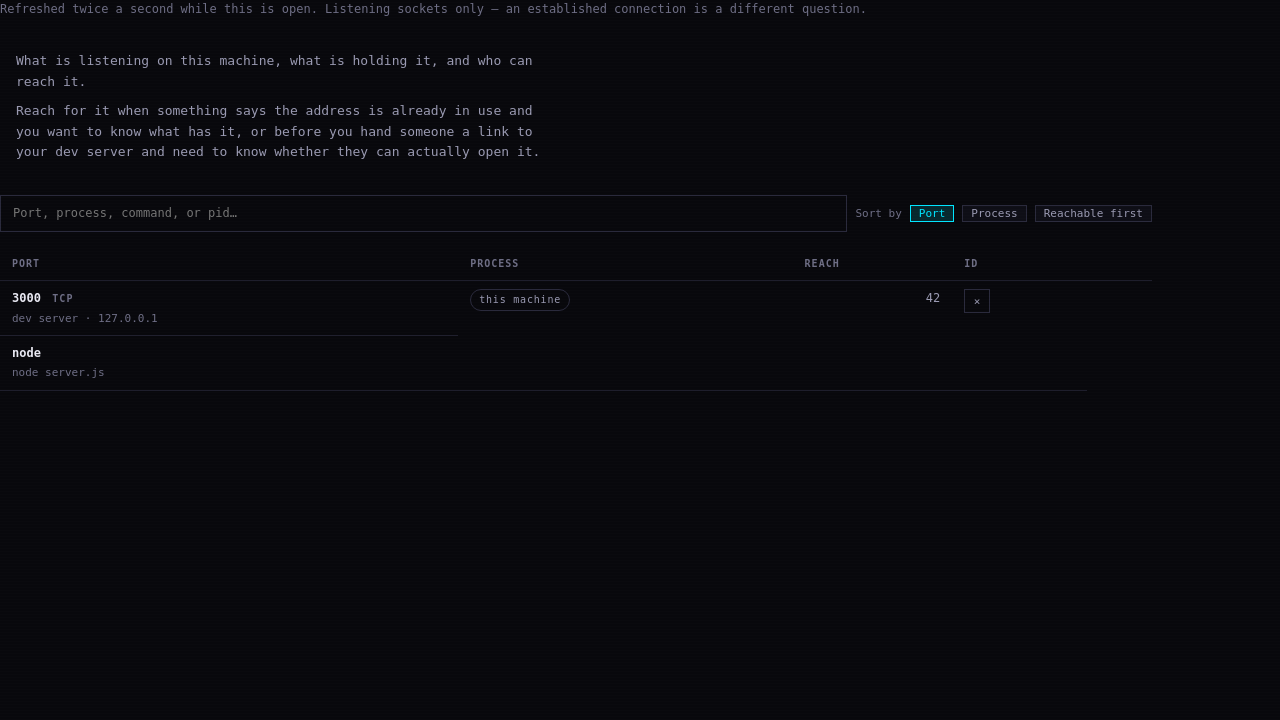
Test case: PortsTool › does not claim the port is free, only that it asked
Expected: the text "3000" is shown, 12,291 -> 41,305
Click the button named "free port 3000" at {"x": 977, "y": 301}, box 964,289 -> 990,313
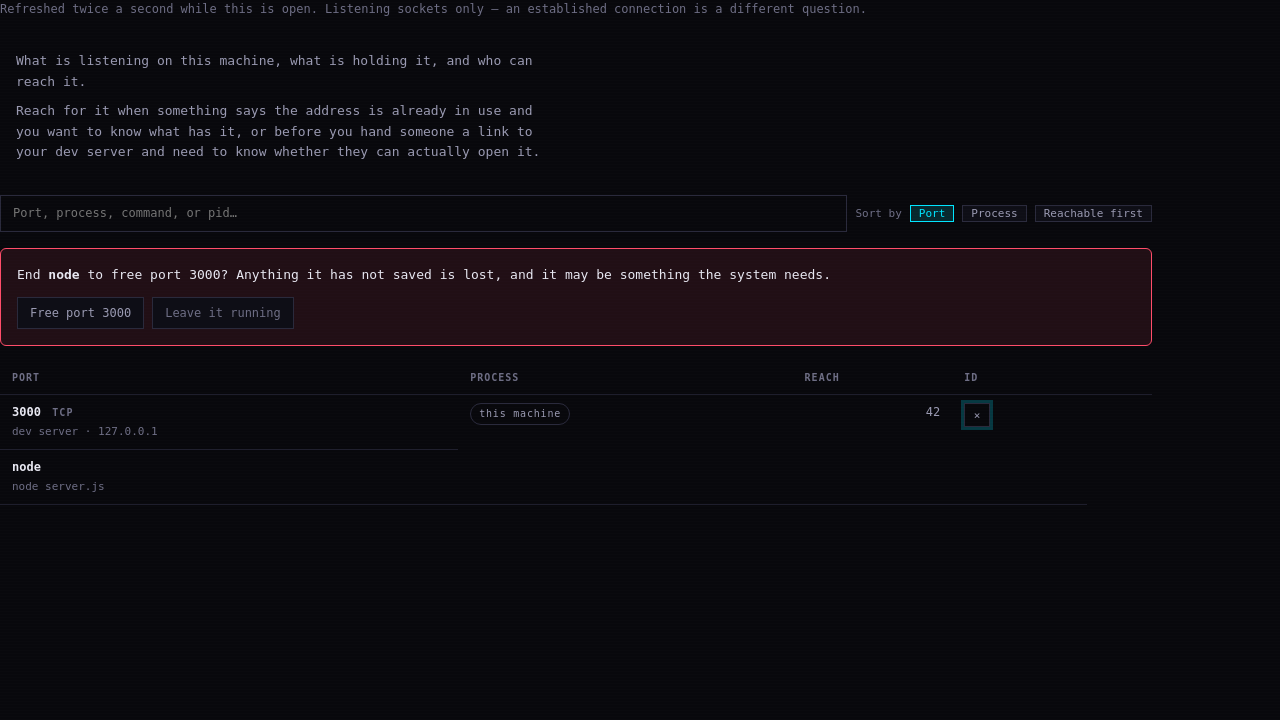
Click the button "Free port 3000" at {"x": 81, "y": 313}, box 17,297 -> 144,329
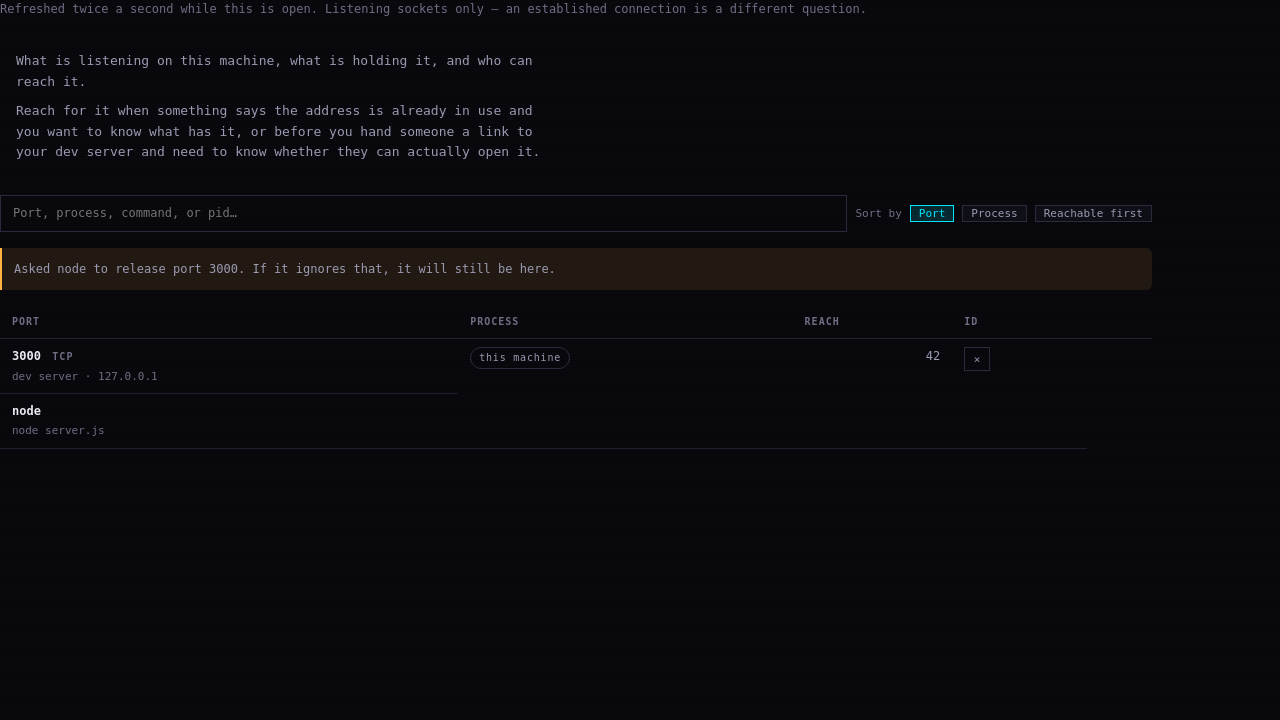
Expected: the text "Asked node to release port 3000. If it ignores that, it will still be here." is shown, 0,248 -> 1152,290
